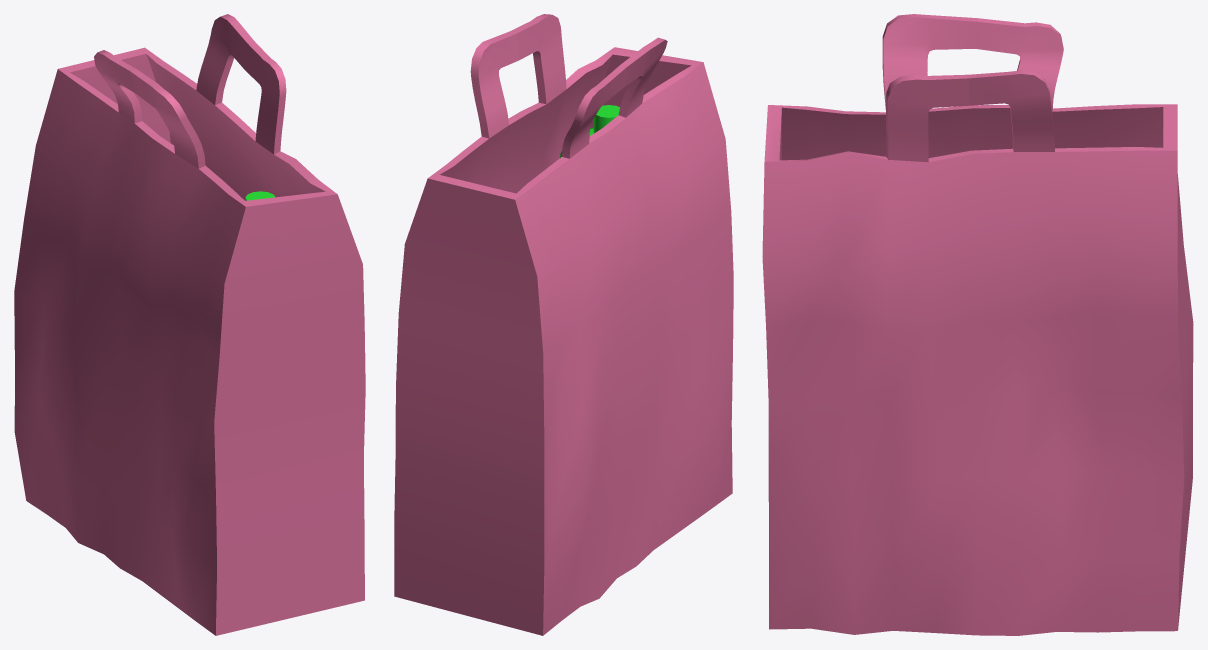
Rendered from Busta.fbx.
3 renders of one model, left to right at view 1: azimuth 30°, elevation 25°; view 2: azimuth 150°, elevation 25°; view 3: azimuth 270°, elevation 25°, orthographic. The views are drawn at different scales.
Parts seen in each view (by area): view 1: busta; view 2: busta; view 3: busta.
Part boxes in pixels (<box>): busta: <box>14,14,365,635</box>; busta: <box>394,14,733,635</box>; busta: <box>762,14,1193,635</box>.
Size of the model in its own units: 110 by 298 by 211.
